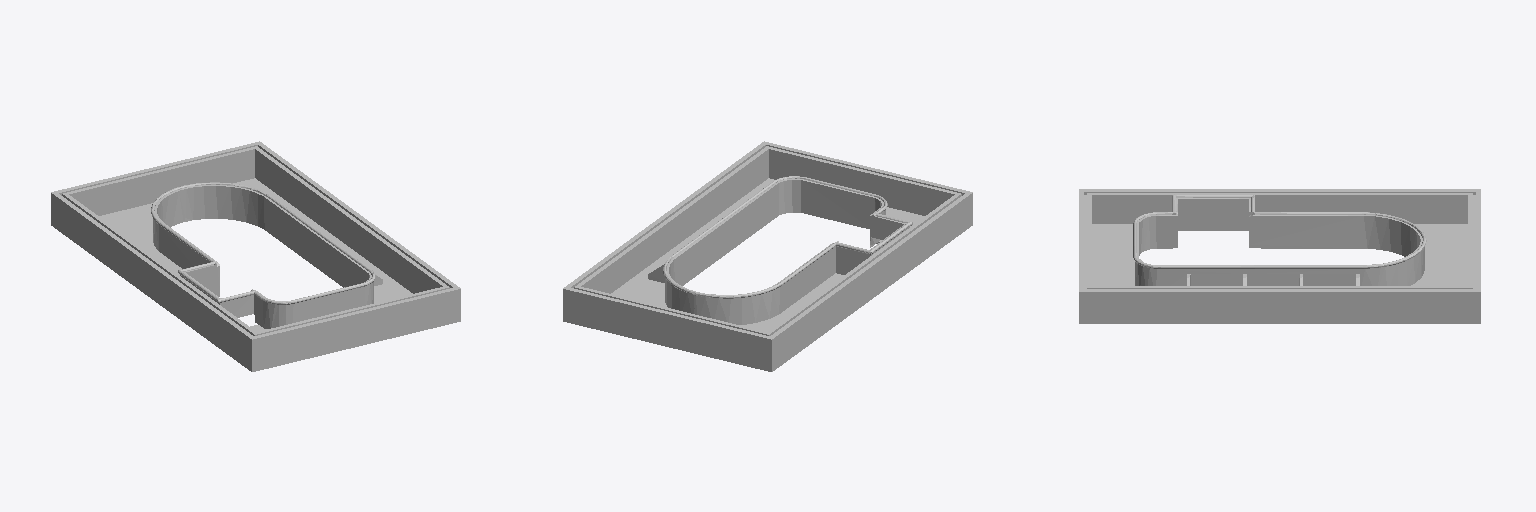
The picture shows the model from 3 angles: view 1: azimuth 30°, elevation 25°; view 2: azimuth 150°, elevation 25°; view 3: azimuth 270°, elevation 25°; orthographic projection.
Visible parts, largest first — view 1: Housing; view 2: Housing; view 3: Housing.
Boxes of the visible parts, x1=… form: Housing: x1=51, y1=141, x2=460, y2=371; Housing: x1=563, y1=141, x2=972, y2=371; Housing: x1=1079, y1=189, x2=1480, y2=323.
Bounding box in the file's own units: 1.78 × 0.2822 × 2.97.